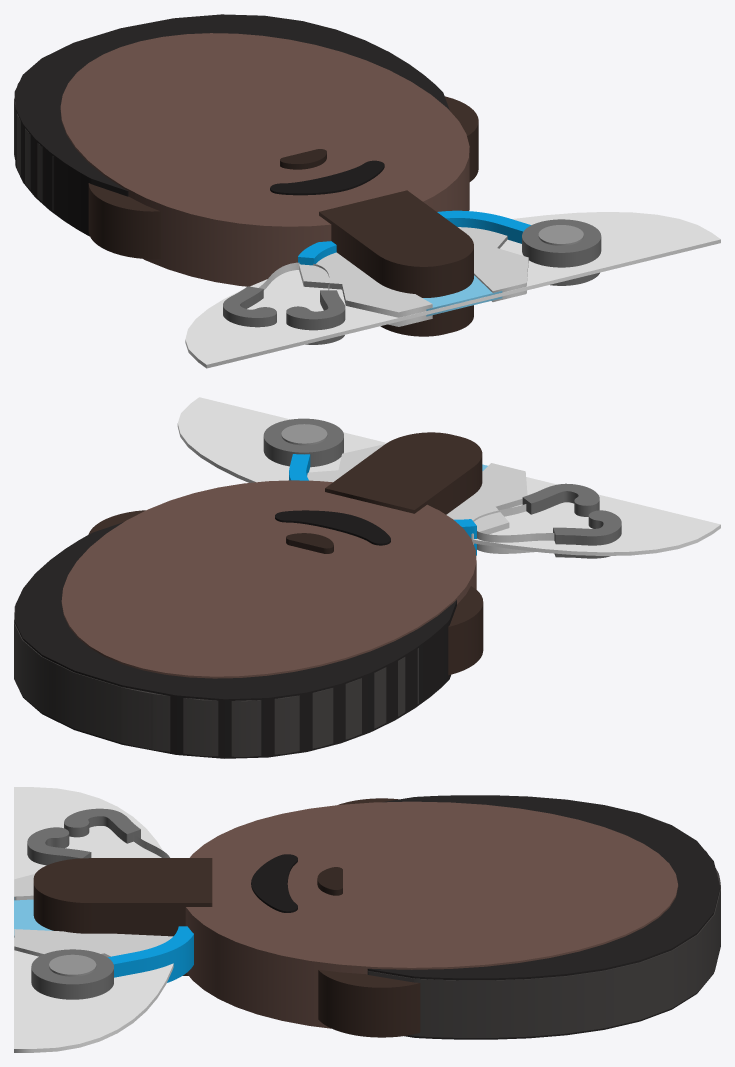
Rendered from emoji_u1f468_1f3ff_200d_2695.glb.
The picture shows the model from 3 angles, top to bottom: view 1: azimuth 30°, elevation 25°; view 2: azimuth 150°, elevation 25°; view 3: azimuth 270°, elevation 25°; orthographic projection. The views are drawn at different scales.
Parts seen in each view (by area): view 1: emoji_u1f468_1f3ff_200d_2695; view 2: emoji_u1f468_1f3ff_200d_2695; view 3: emoji_u1f468_1f3ff_200d_2695.
Part boxes in pixels (<box>): emoji_u1f468_1f3ff_200d_2695: <box>14,14,720,368</box>; emoji_u1f468_1f3ff_200d_2695: <box>14,397,720,758</box>; emoji_u1f468_1f3ff_200d_2695: <box>14,787,720,1052</box>.
Size of the model in its own units: 0.0293 by 0.004 by 0.0334.
